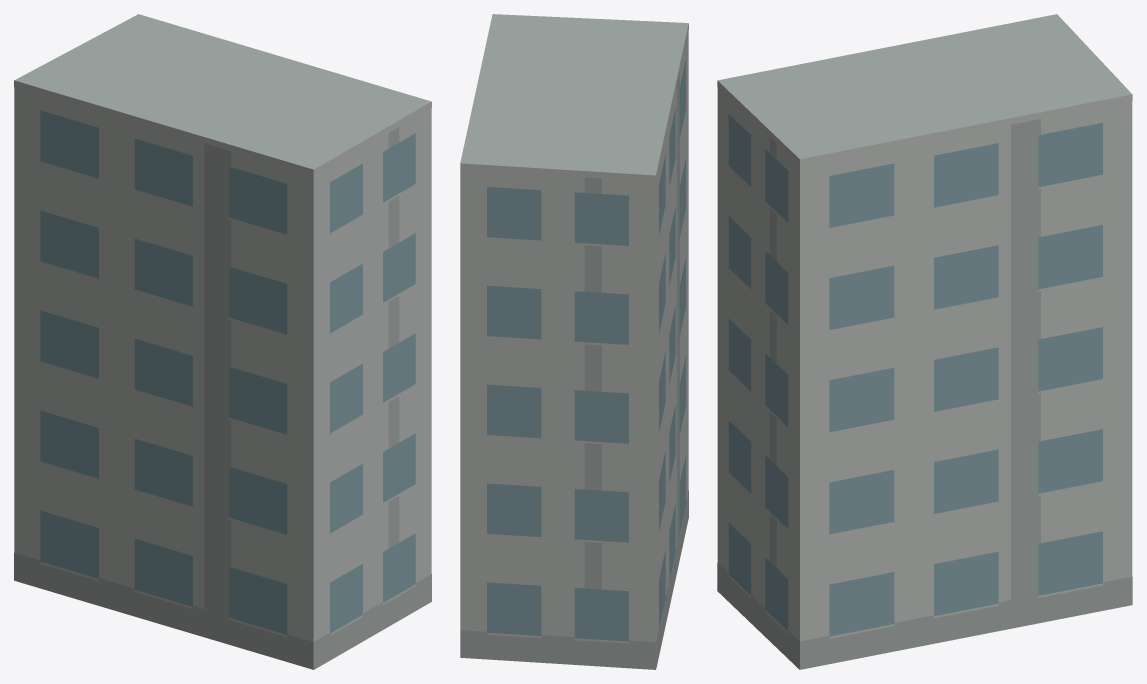
File: survey-upis-32987581.glb
3 renders of one model, left to right at view 1: azimuth 30°, elevation 25°; view 2: azimuth 150°, elevation 25°; view 3: azimuth 270°, elevation 25°, orthographic. The views are drawn at different scales.
Parts seen in each view (by area): view 1: survey-upis-32987581.tmp; view 2: survey-upis-32987581.tmp; view 3: survey-upis-32987581.tmp.
Part boxes in pixels (left/top/right/bottom): survey-upis-32987581.tmp: left=14, top=14, right=431, bottom=669; survey-upis-32987581.tmp: left=460, top=14, right=688, bottom=669; survey-upis-32987581.tmp: left=717, top=14, right=1132, bottom=669.
Size of the model in its own units: 11.38 by 18.65 by 13.75.
